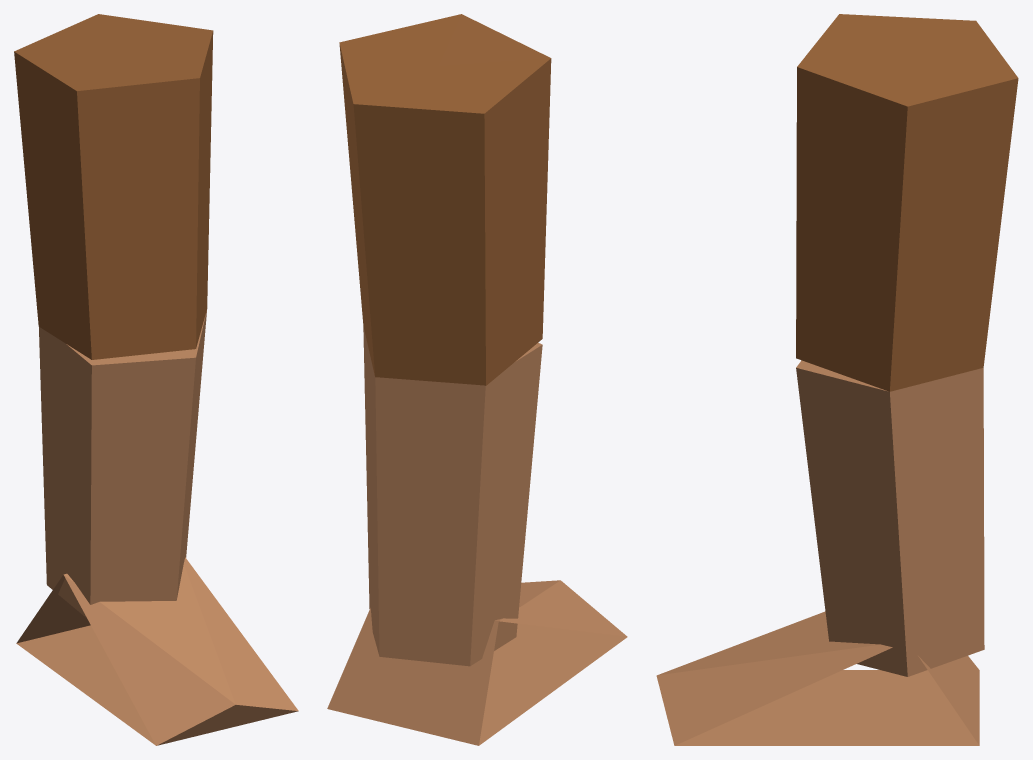
Rendered from part_leg_l.obj.
3 renders of one model, left to right at view 1: azimuth 30°, elevation 25°; view 2: azimuth 150°, elevation 25°; view 3: azimuth 270°, elevation 25°, orthographic. The views are drawn at different scales.
Visible parts, largest first — view 1: CavemanLegL; view 2: CavemanLegL; view 3: CavemanLegL.
Boxes of the visible parts, left/top/right/bottom form: CavemanLegL: left=14, top=14, right=298, bottom=745; CavemanLegL: left=327, top=14, right=627, bottom=745; CavemanLegL: left=656, top=14, right=1018, bottom=745.
Size of the model in its own units: 0.2352 by 0.8069 by 0.4034.
